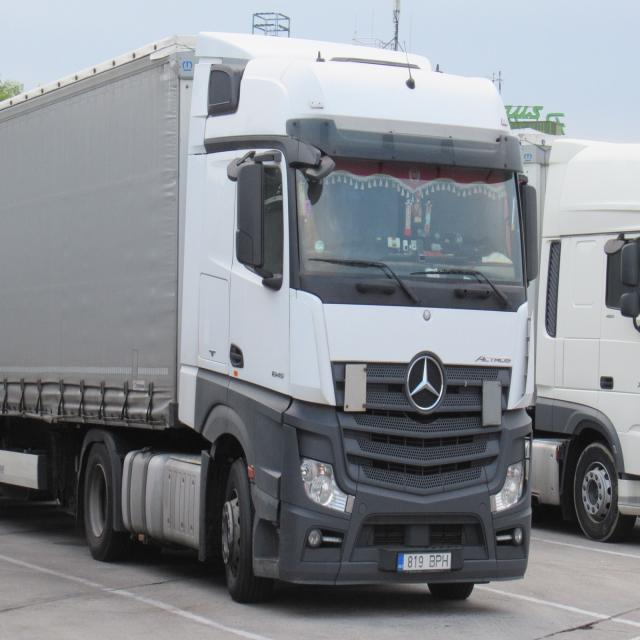License-plate: (395, 551, 453, 572)
